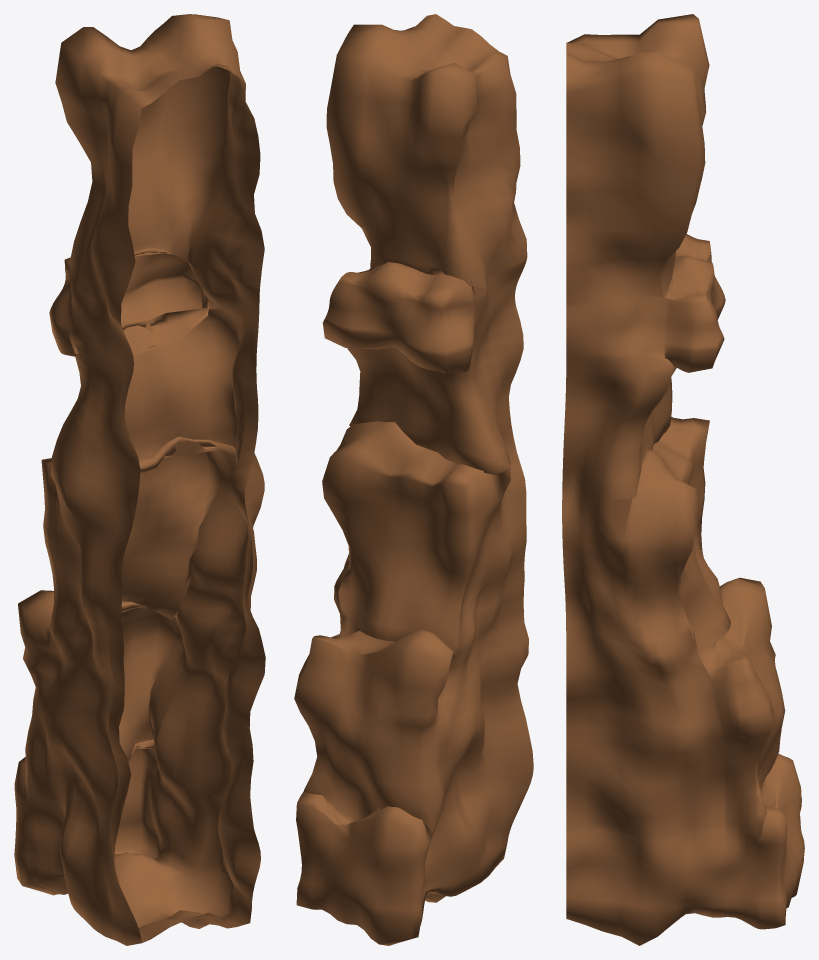
The model's file is stone1.fbx.
The picture shows the model from 3 angles, left to right: view 1: azimuth 30°, elevation 25°; view 2: azimuth 150°, elevation 25°; view 3: azimuth 270°, elevation 25°; orthographic projection. The views are drawn at different scales.
Parts seen in each view (by area): view 1: stone1; view 2: stone1; view 3: stone1.
Boxes of the visible parts, x1=… form: stone1: x1=14, y1=14, x2=265, y2=945; stone1: x1=294, y1=14, x2=533, y2=945; stone1: x1=562, y1=14, x2=804, y2=945.
Bounding box in the file's own units: 721 × 3262 × 806.
